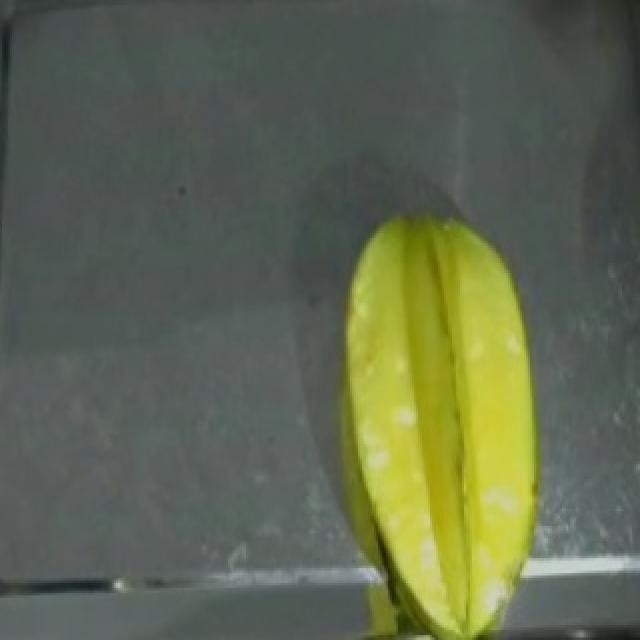fruit: (320, 188, 568, 580)
